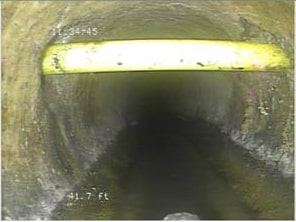cb: (21, 38, 294, 79)
